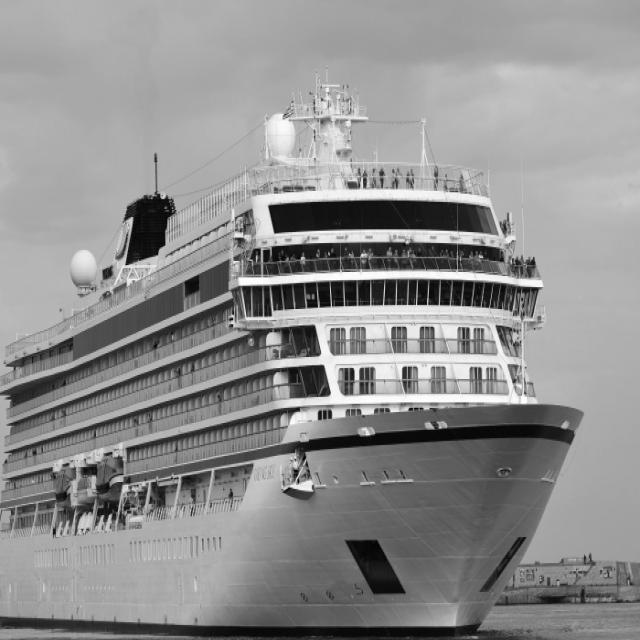cruises: (1, 75, 588, 640)
